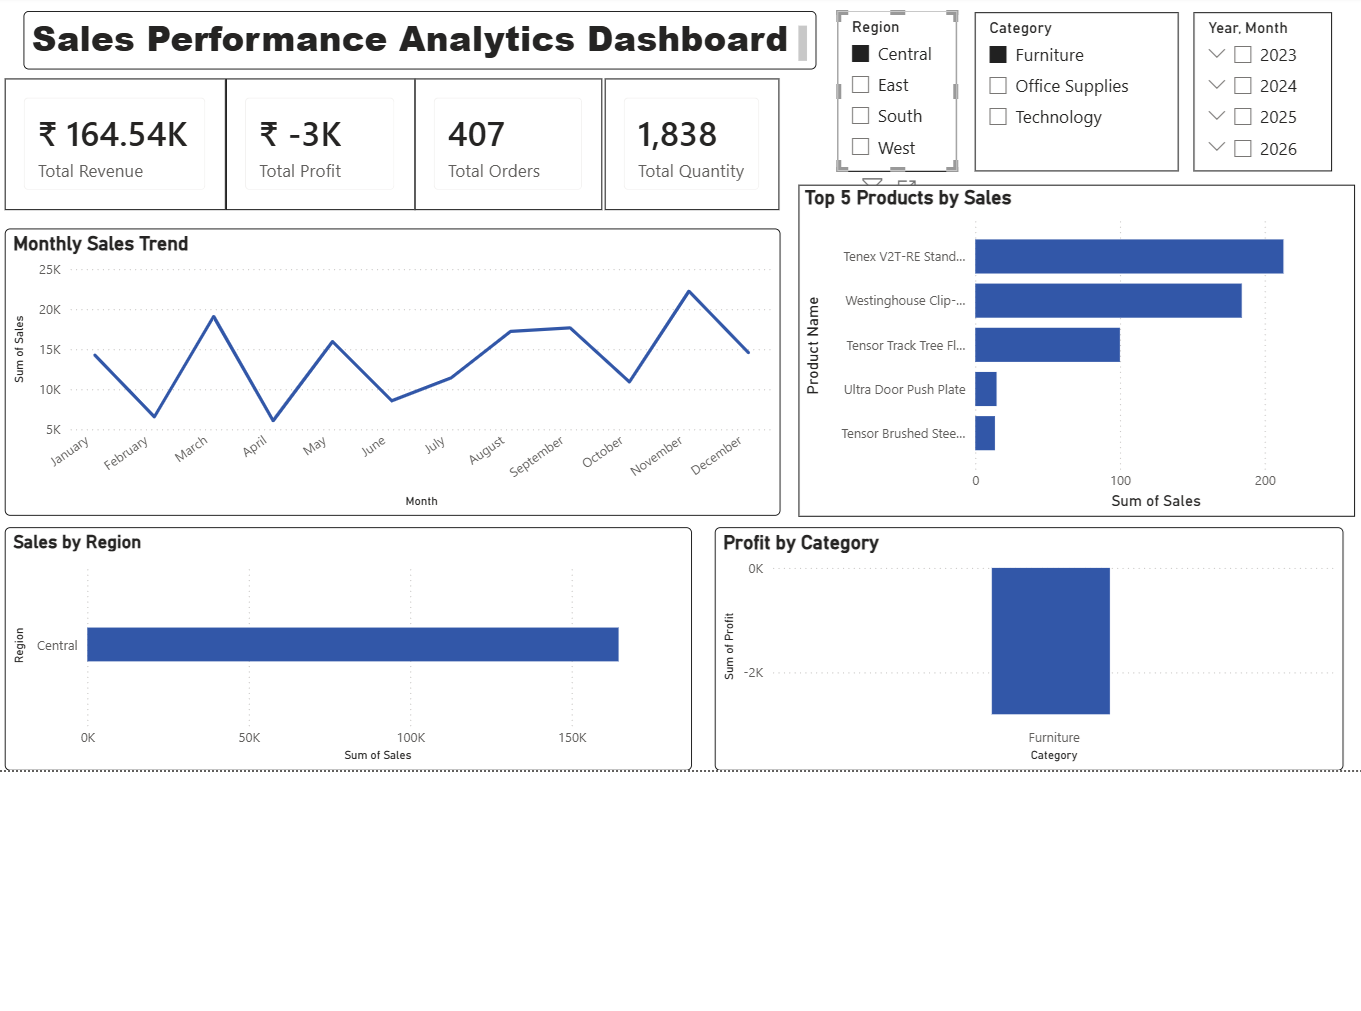

This screenshot's page, from the dashboard's own definition file:
{"tool":"powerbi","page":{"name":"Page 1","canvas":[1280,720],"ordinal":0},"visuals":[{"type":"cardVisual","fields":{"Data":["Sum(samplesuperstore.Sales)"]},"box":[12.3,76.8,205.8,122.1],"z":0},{"type":"cardVisual","fields":{"Data":["Sum(samplesuperstore.Profit)"]},"box":[218.2,76.8,175.6,122.1],"z":1000},{"type":"cardVisual","fields":{"Data":["Count(samplesuperstore.Order ID)"]},"box":[394.2,76.7,174.4,122.1],"z":2000},{"type":"cardVisual","fields":{"Data":["Sum(samplesuperstore.Quantity)"]},"box":[570.9,76.7,162.8,122.1],"z":3000},{"type":"lineChart","title":"Monthly Sales Trend","fields":{"Y":["Sum(samplesuperstore.Sales)"],"Category":["samplesuperstore.Order Date.Variation.Date Hierarchy.Month"]},"box":[12.3,216.8,721.8,267.6],"z":4000},{"type":"clusteredBarChart","title":"Sales by Region","fields":{"Category":["samplesuperstore.Region"],"Y":["Sum(samplesuperstore.Sales)"]},"box":[12.3,494,639.5,226.4],"z":5000},{"type":"clusteredColumnChart","title":"Profit by Category","fields":{"Category":["samplesuperstore.Category"],"Y":["Sum(samplesuperstore.Profit)"]},"box":[673.8,494,584.6,226.4],"z":6000},{"type":"slicer","fields":{"Values":["samplesuperstore.Region"]},"box":[787.7,13.7,111.1,149.6],"z":7000},{"type":"slicer","fields":{"Values":["samplesuperstore.Category"]},"box":[915.3,15.1,189.4,148.2],"z":8000},{"type":"slicer","fields":{"Values":["samplesuperstore.Order Date.Variation.Date Hierarchy.Year","samplesuperstore.Order Date.Variation.Date Hierarchy.Month"]},"box":[1118.4,15.1,129,148.2],"z":9000},{"type":"textbox","box":[30.2,14,737.2,54.7],"z":10000},{"type":"barChart","title":"Top 5 Products by Sales","fields":{"Category":["samplesuperstore.Product Name"],"Y":["Sum(samplesuperstore.Sales)"]},"box":[750.6,175.6,517.3,308.7],"z":11000}]}

Visuals, with their boxes in screenshot pixels (x1, y1, x2, y2):
cardVisual - Sum(samplesuperstore.Sales): (0, 69, 223, 202)
cardVisual - Sum(samplesuperstore.Profit): (223, 69, 414, 202)
cardVisual - Count(samplesuperstore.Order ID): (414, 69, 604, 202)
cardVisual - Sum(samplesuperstore.Quantity): (606, 69, 783, 202)
"Monthly Sales Trend" lineChart: (0, 222, 784, 512)
"Sales by Region" clusteredBarChart: (0, 523, 694, 769)
"Profit by Category" clusteredColumnChart: (718, 523, 1354, 769)
slicer - samplesuperstore.Region: (842, 1, 963, 163)
slicer - samplesuperstore.Category: (981, 2, 1187, 163)
slicer - samplesuperstore.Order Date.Variation.Date Hierarchy.Year x samplesuperstore.Order Date.Variation.Date Hierarchy.Month: (1202, 2, 1342, 163)
textbox: (19, 1, 820, 61)
"Top 5 Products by Sales" barChart: (802, 177, 1360, 512)
